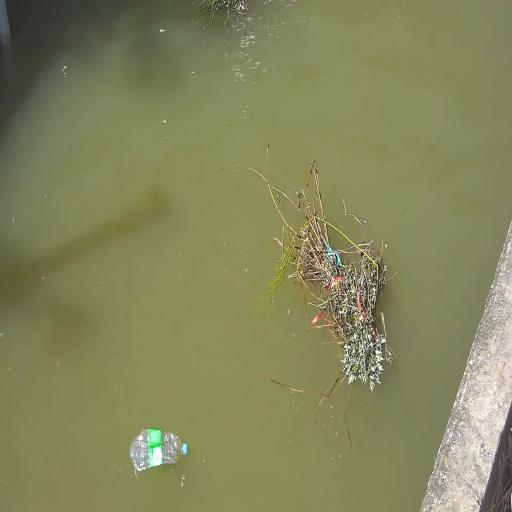plastic: (130, 429, 187, 471)
twig: (239, 144, 397, 399), (198, 0, 250, 28)
